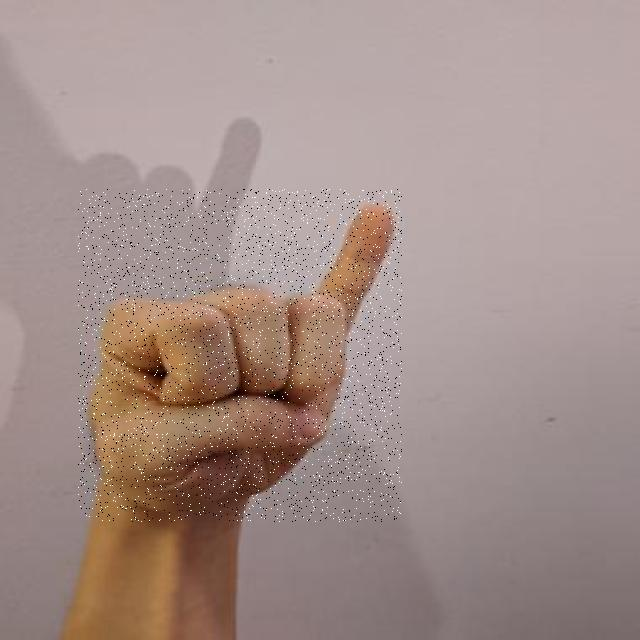I: (78, 189, 402, 522)
